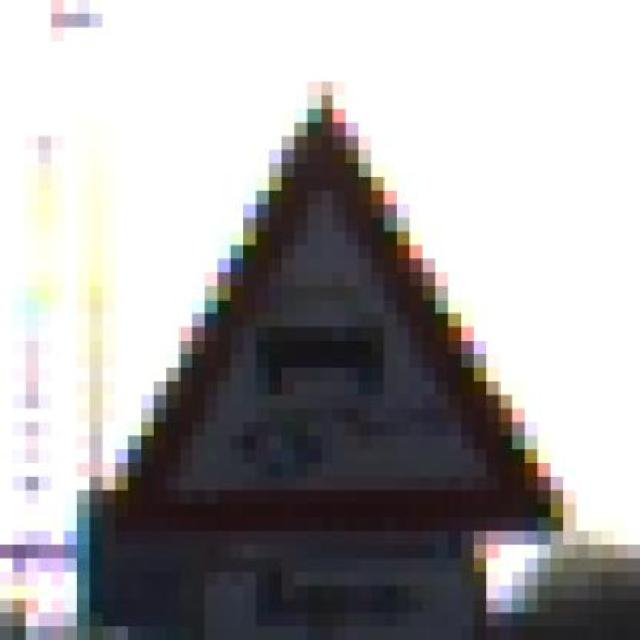Slippery Road Ahead: (51, 68, 589, 558)
